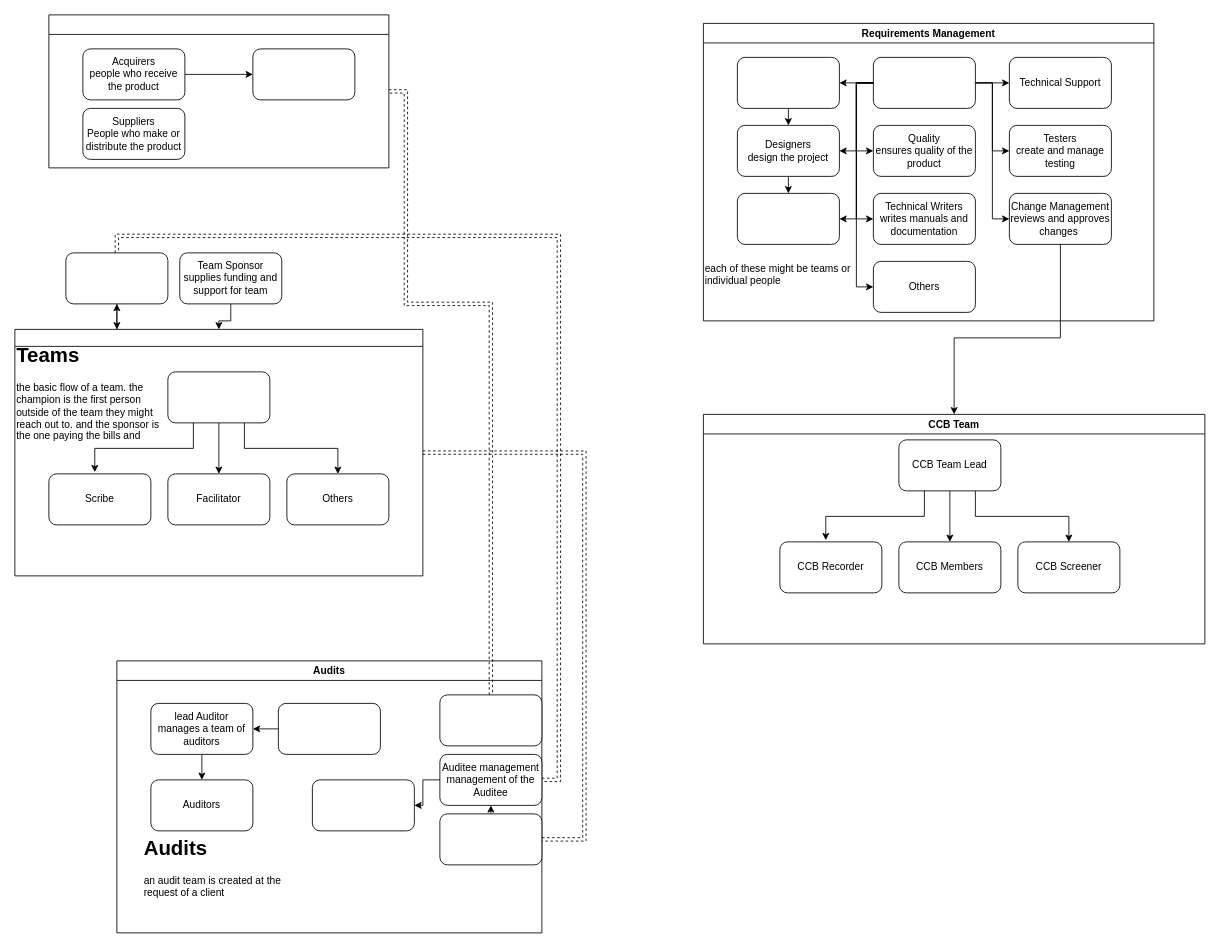
This 1220x950 diagram has some shape labels left out. The shapes that lost their labels are listed below. From the top down, each one's box as (x1, y1, x2, y2) in pixels, then its label:
(48, 14, 389, 168): Stake Holders
(252, 48, 355, 100): Representative represents the client or users
(737, 57, 839, 108): Requirements Analyst eliciting the requirements
(873, 57, 975, 108): Project Manager
(737, 193, 839, 244): Developers makes the project
(65, 252, 168, 304): Team Champion Sr management that organizes the team but doesn't run it
(167, 371, 270, 423): Team Lead
(14, 329, 423, 576): Team Level
(278, 703, 380, 754): Audit Manager manages audit leaders
(439, 694, 542, 746): Client who requests the audit
(312, 779, 414, 831): Escort familiar with the Auditee
(439, 813, 542, 865): Auditee group being audited
